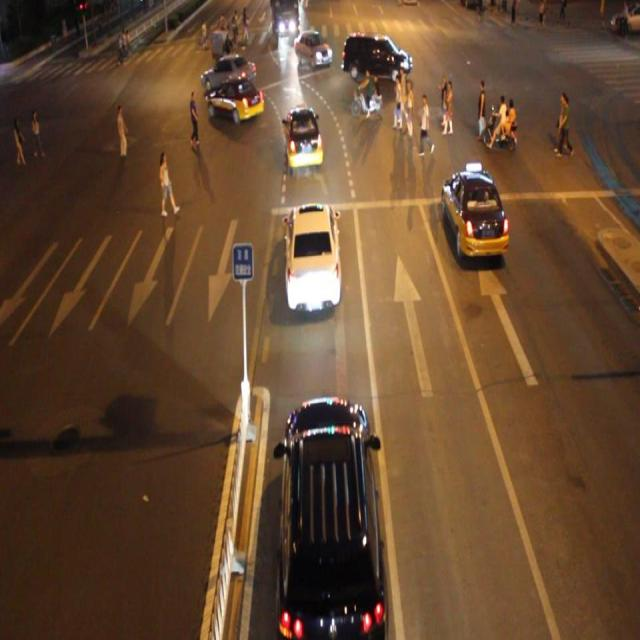car: (278, 393, 386, 640), (440, 166, 507, 264), (284, 202, 340, 310), (342, 29, 412, 81), (204, 75, 264, 124), (284, 106, 323, 169), (201, 52, 256, 93), (293, 27, 332, 71)
